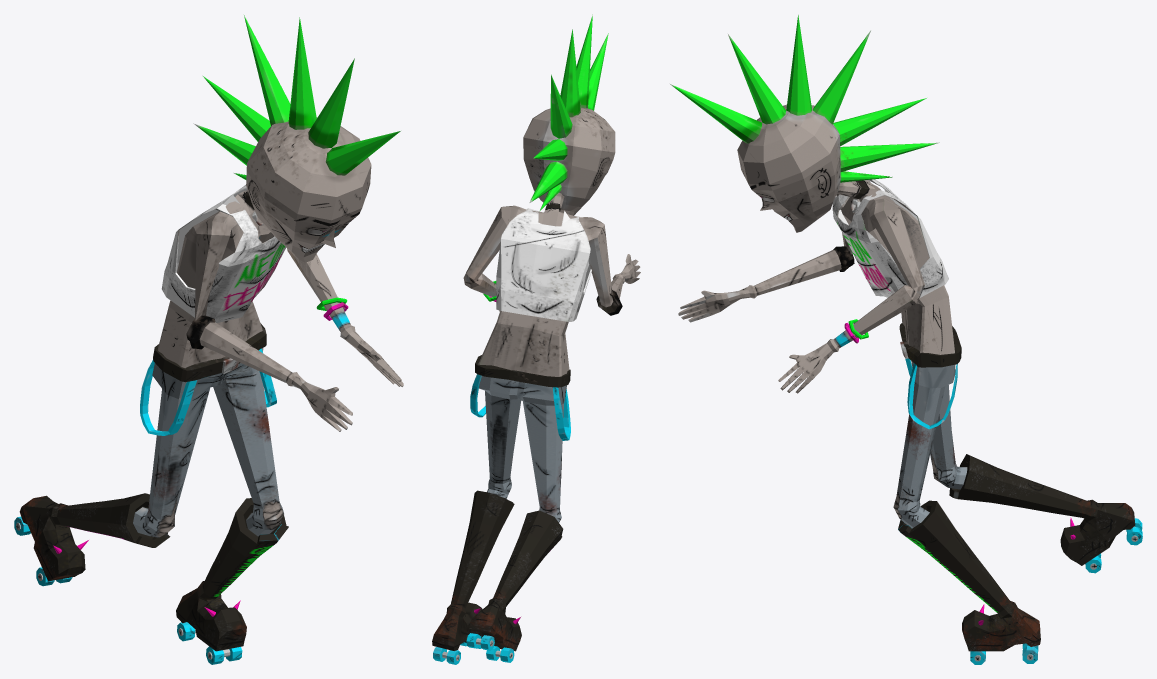
The model's file is punkAnimation_000056.obj.
3 renders of one model, left to right at view 1: azimuth 30°, elevation 25°; view 2: azimuth 150°, elevation 25°; view 3: azimuth 270°, elevation 25°, orthographic. The views are drawn at different scales.
Visible parts, largest first — view 1: Cube.004_Cube.003; view 2: Cube.004_Cube.003; view 3: Cube.004_Cube.003.
Part boxes in pixels (bbox=[...]): Cube.004_Cube.003: bbox=[14, 15, 403, 664]; Cube.004_Cube.003: bbox=[432, 14, 640, 664]; Cube.004_Cube.003: bbox=[670, 15, 1142, 664].
Size of the model in its own units: 1.82 by 6.76 by 4.58.
